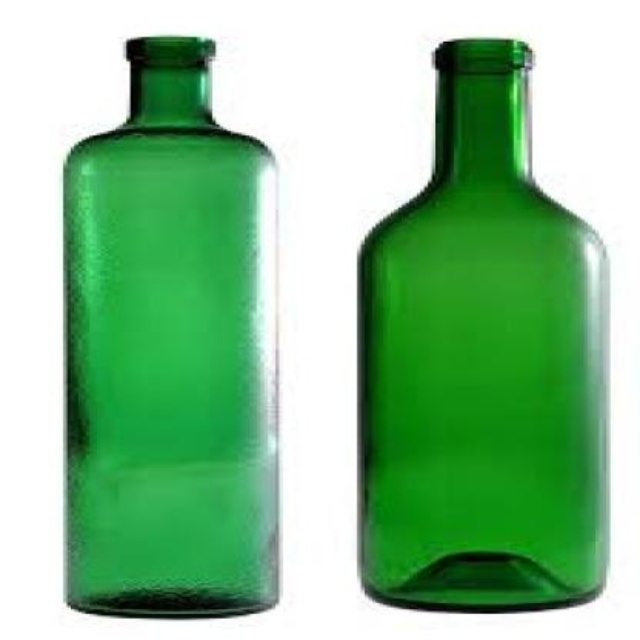trash: (358, 38, 606, 609), (65, 37, 277, 614)
